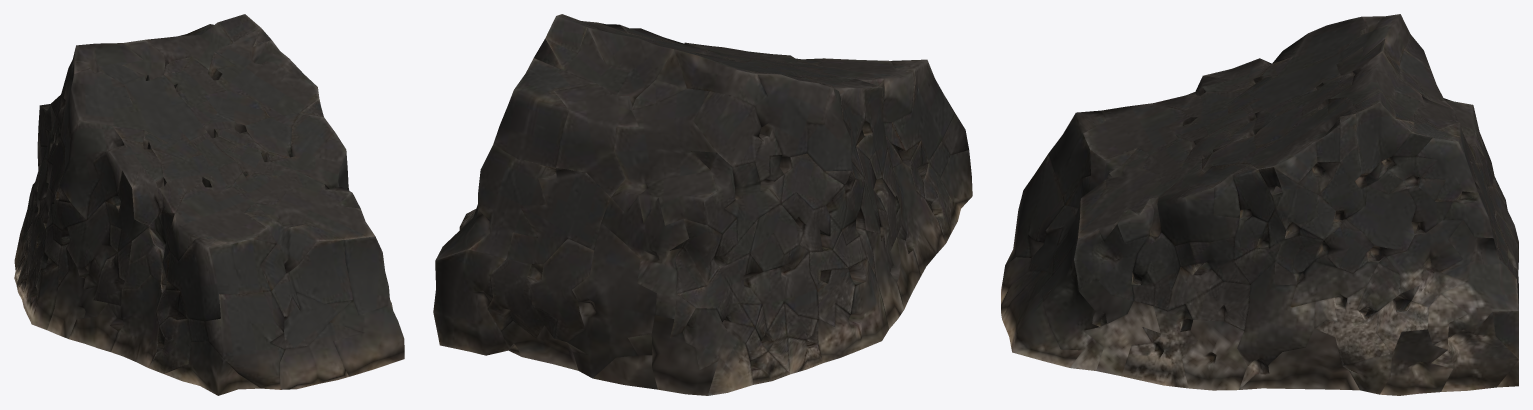
Rendered from chaos-stone.glb.
3 views of the same model, side by side, from view 1: azimuth 30°, elevation 25°; view 2: azimuth 150°, elevation 25°; view 3: azimuth 270°, elevation 25° (orthographic). The views are drawn at different scales.
Visible parts, largest first — view 1: mesh_node; view 2: mesh_node; view 3: mesh_node.
Boxes of the visible parts, x1,y1,x2,y2 form: mesh_node: [14, 14, 404, 395]; mesh_node: [433, 14, 972, 395]; mesh_node: [1001, 14, 1518, 395].
Bounding box in the file's own units: 0.7676 × 0.5664 × 1.
Materials: 1 (1 with a texture image).
